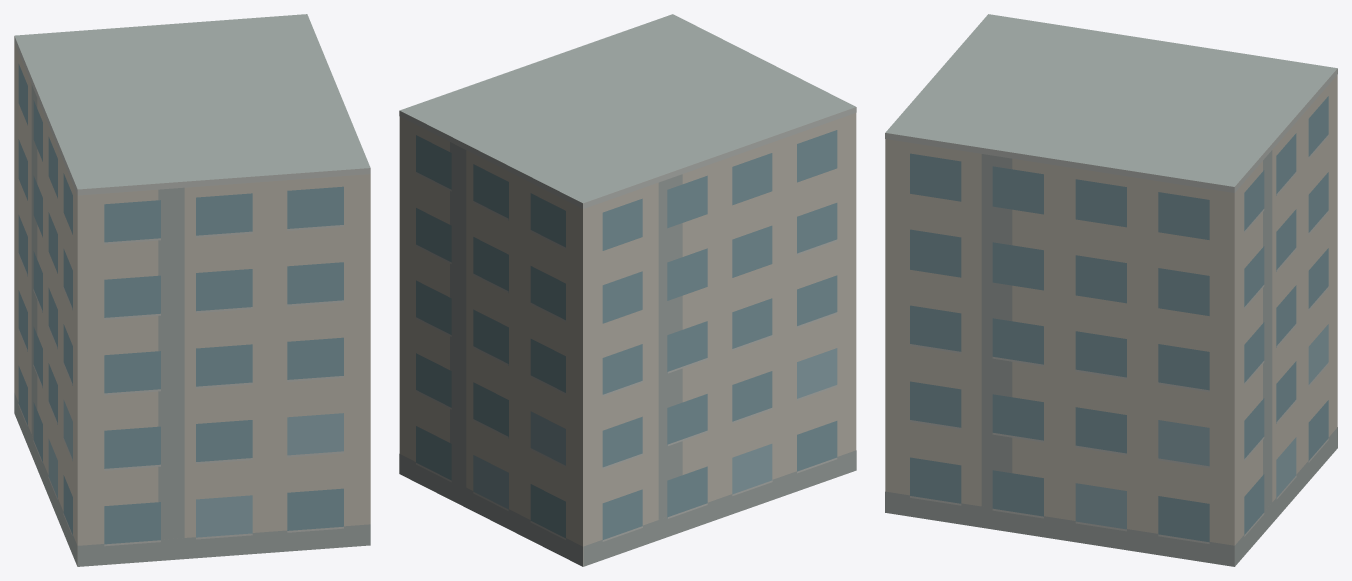
The model's file is residential-d729ddd7-eeea-4053-bb1c-32670efa56b3.glb.
3 renders of one model, left to right at view 1: azimuth 30°, elevation 25°; view 2: azimuth 150°, elevation 25°; view 3: azimuth 270°, elevation 25°, orthographic. The views are drawn at different scales.
Parts seen in each view (by area): view 1: residential-d729ddd7-eeea-4053-bb1c-32670efa56b3.tmp; view 2: residential-d729ddd7-eeea-4053-bb1c-32670efa56b3.tmp; view 3: residential-d729ddd7-eeea-4053-bb1c-32670efa56b3.tmp.
Part boxes in pixels (x1,y1,x2,y2): residential-d729ddd7-eeea-4053-bb1c-32670efa56b3.tmp: (14,14,370,566); residential-d729ddd7-eeea-4053-bb1c-32670efa56b3.tmp: (399,14,856,566); residential-d729ddd7-eeea-4053-bb1c-32670efa56b3.tmp: (885,14,1337,566).
Size of the model in its own units: 14.9 by 15.25 by 16.48.
